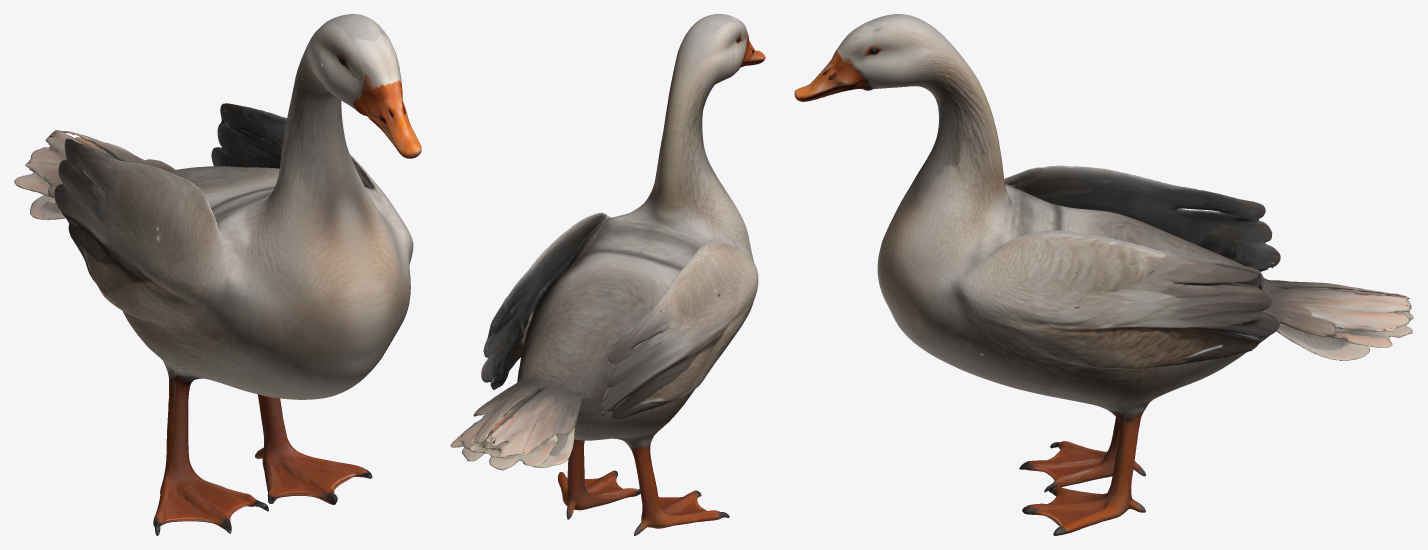
File: ganso.glb
3 renders of one model, left to right at view 1: azimuth 30°, elevation 25°; view 2: azimuth 150°, elevation 25°; view 3: azimuth 270°, elevation 25°, orthographic. The views are drawn at different scales.
Bounding box in the file's own units: 0.7293 × 1.7 × 2.
1 material, 1 textured.
